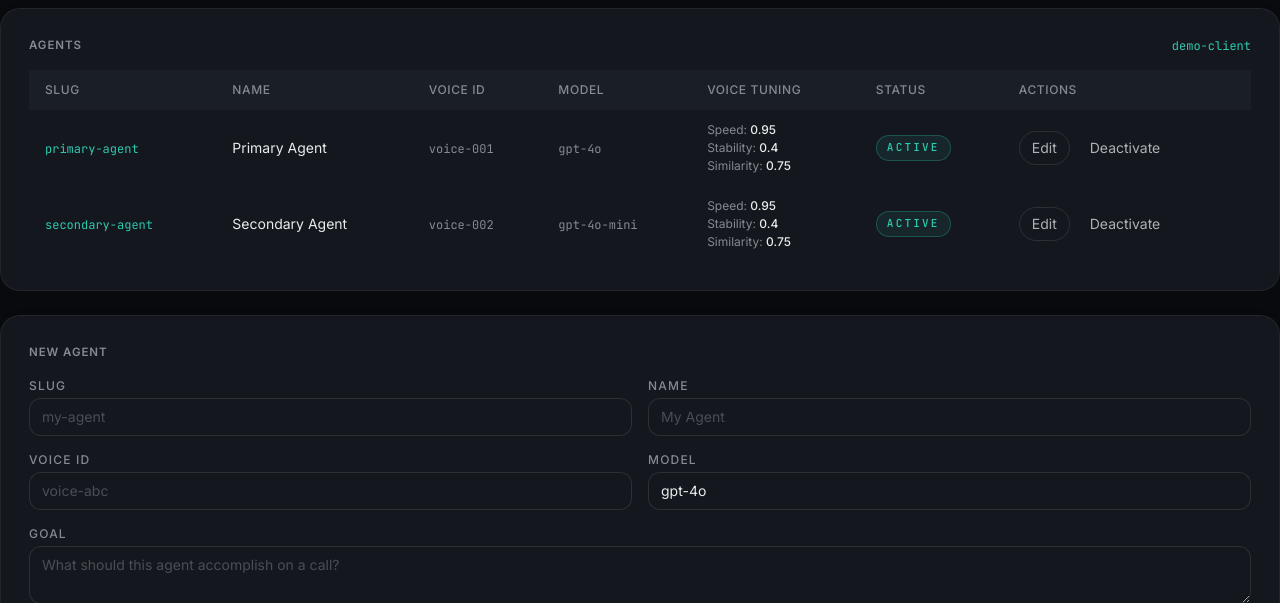
Scenario: AgentsSection › shows ElevenLabs Agent ID field when editing an agent
Click the button "Edit" in the row of "primary-agent": point(1044, 148) [1019,131,1070,165]
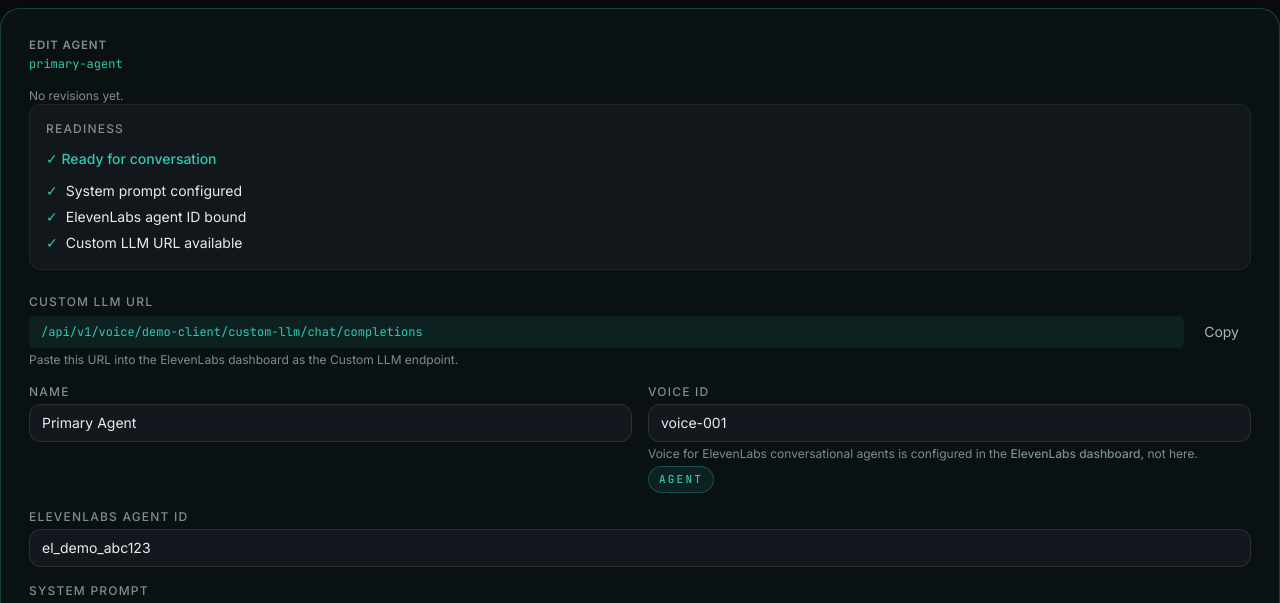
Expected: the field labelled "ElevenLabs Agent ID" is shown, [29,529,1251,567]
